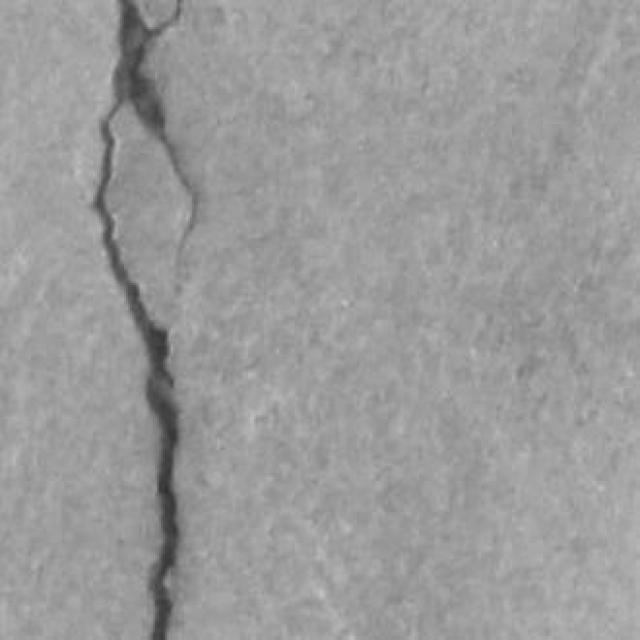crack: (94, 0, 191, 639), (115, 0, 197, 265)
